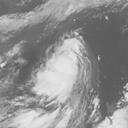cyclone: (32, 37, 86, 105)
